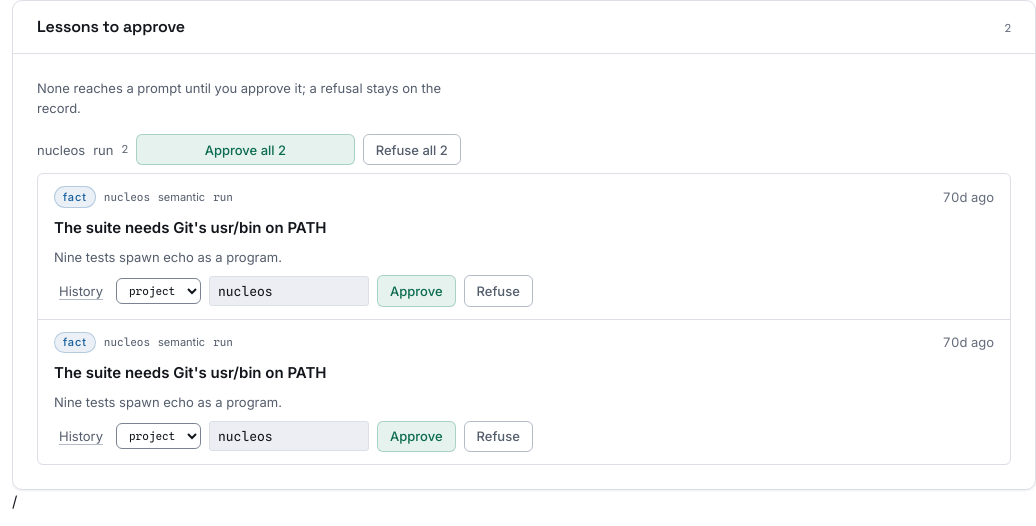
Scenario: WaitingPanel › approve all asks for a second click first
Click the button "Approve all 2": [245, 150] box [136, 134, 355, 165]
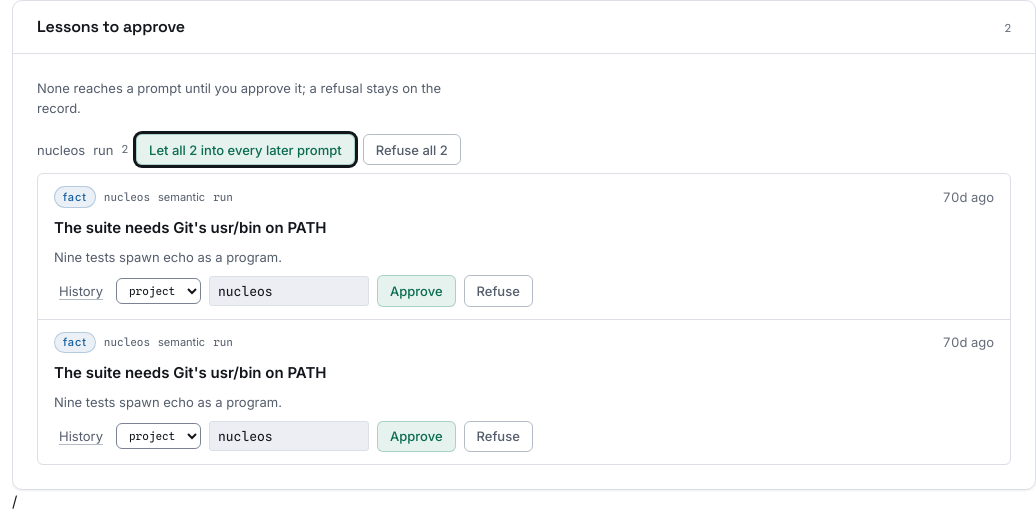
Now the button "Let all 2 into every later prompt" is shown, box [136, 134, 355, 165]
